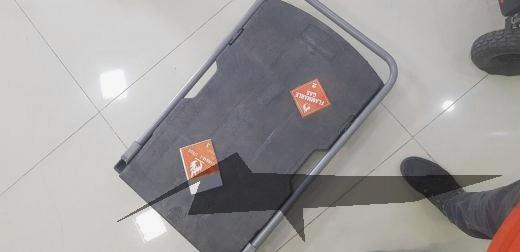flammable: (181, 140, 218, 180), (292, 78, 329, 116)
